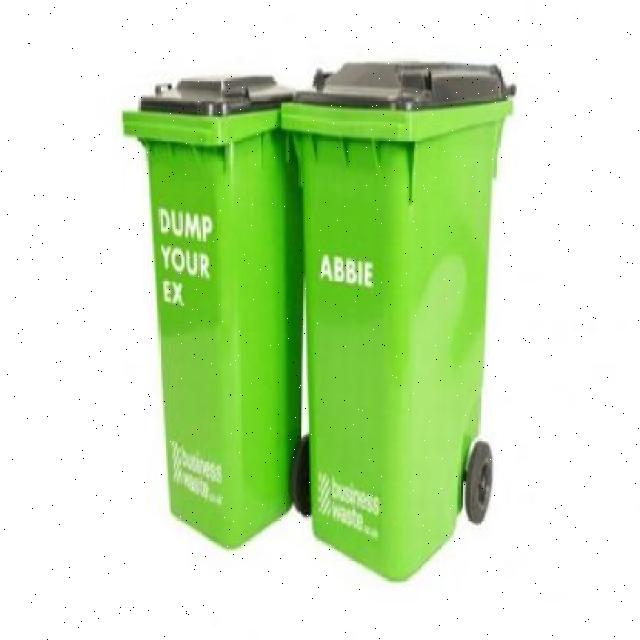garbage container: (279, 52, 530, 596), (112, 54, 311, 563)
